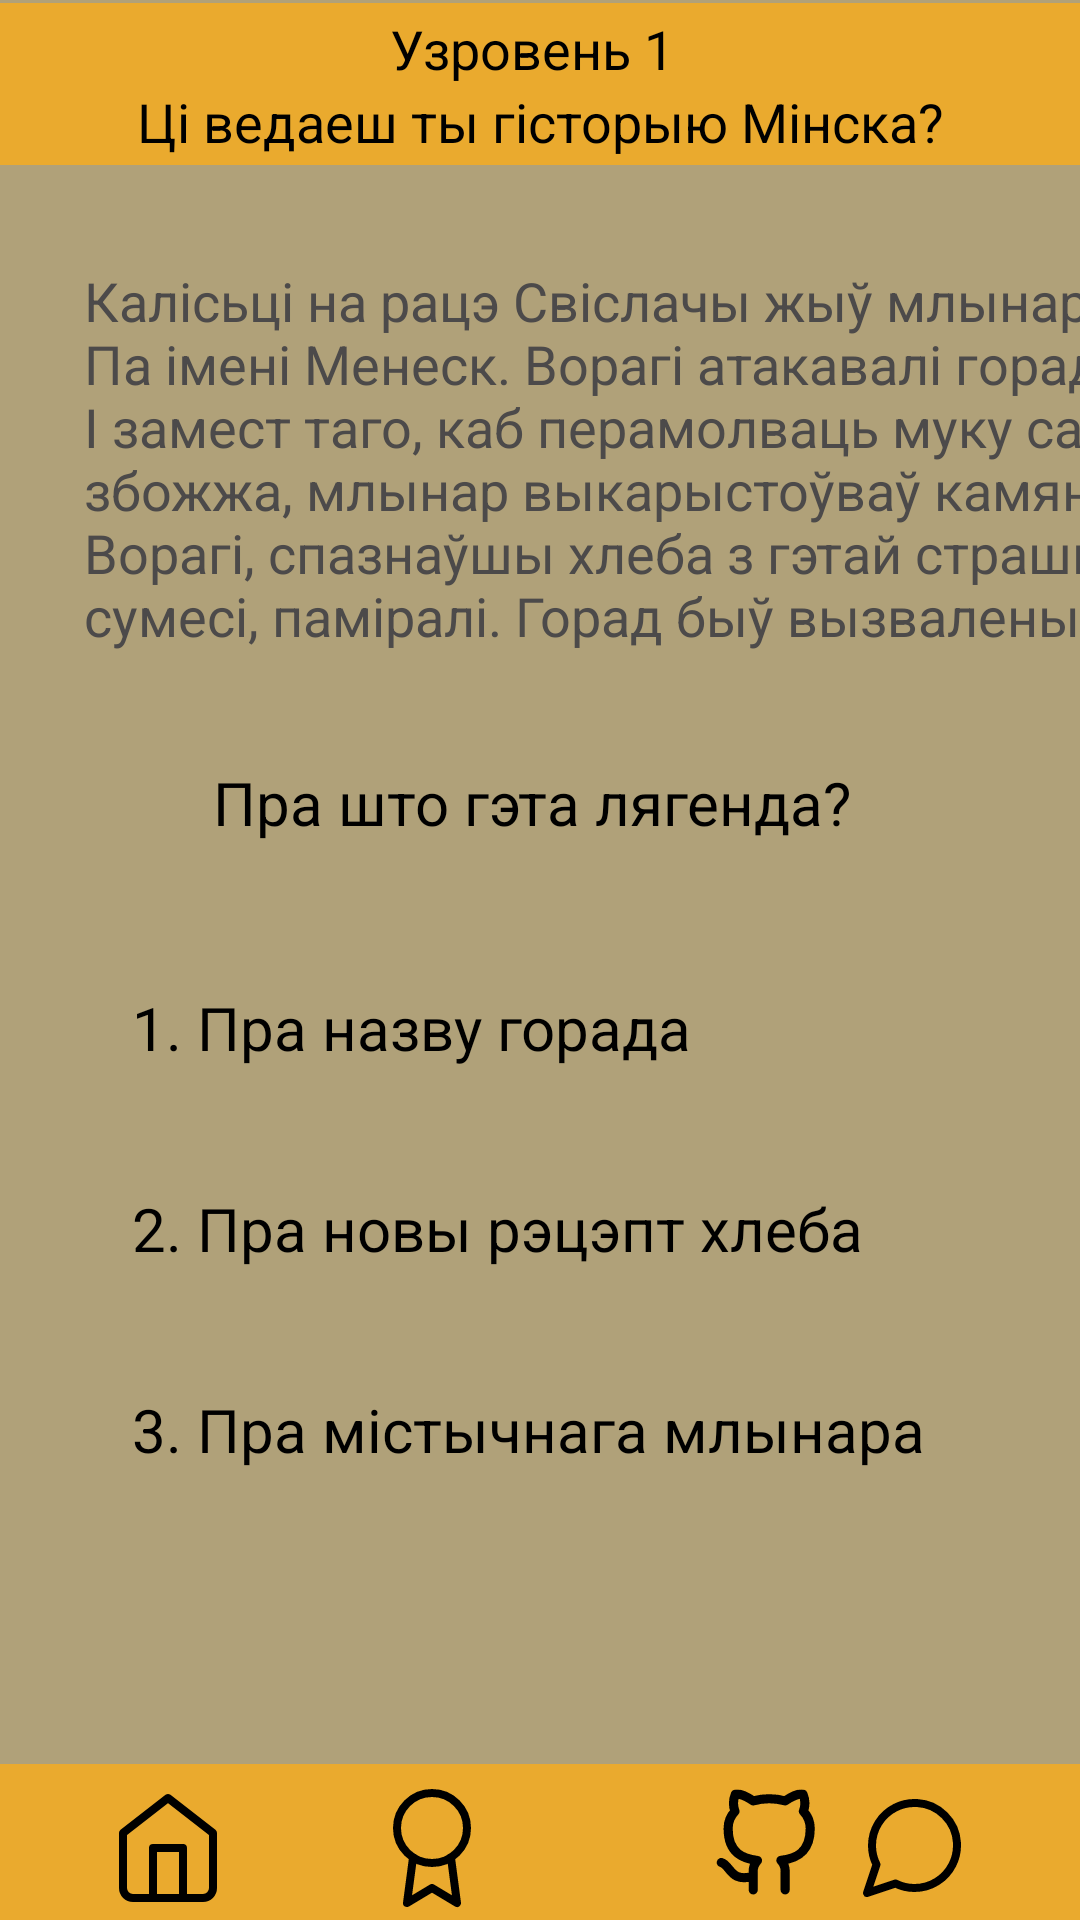

Locate icon controls on the screen. Image size 1080×1920, boxes as (x1, y1, x2, y2).
award: (393, 1789, 471, 1908)
home: (119, 1794, 217, 1902)
message circle: (863, 1799, 961, 1897)
